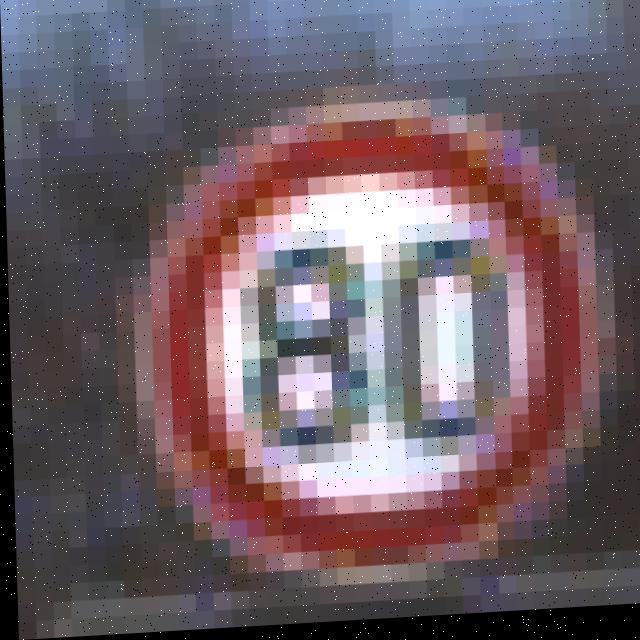speed_limit_80: (153, 67, 635, 602)
